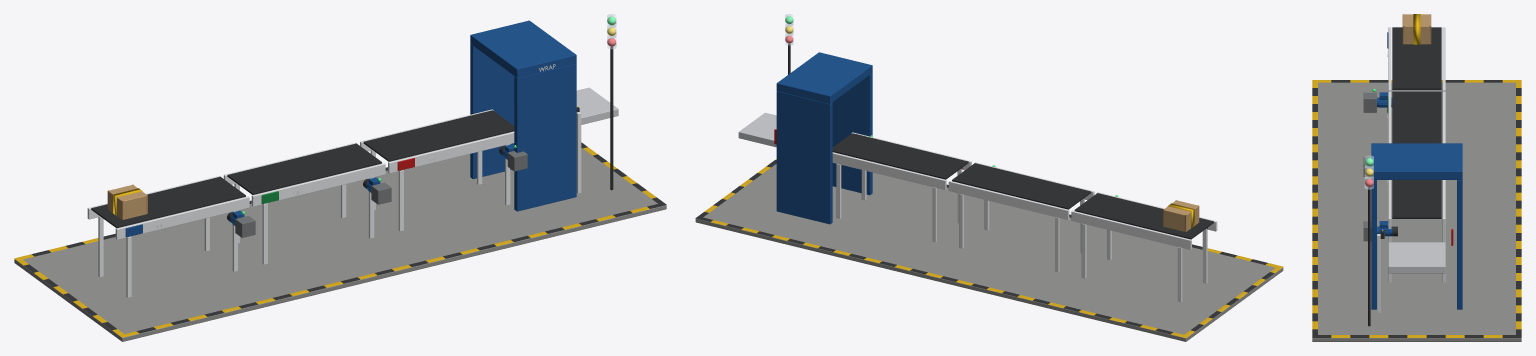
The model's file is machine_line3.glb.
3 views of the same model, side by side, from view 1: azimuth 30°, elevation 25°; view 2: azimuth 150°, elevation 25°; view 3: azimuth 270°, elevation 25° (orthographic). The views are drawn at different scales.
Visible parts, largest first — view 1: frame, proto_box_mesh; view 2: frame, proto_box_mesh; view 3: frame, proto_box_mesh.
Part boxes in pixels (x1,y1,x2,y2): frame: (14, 14, 666, 341); proto_box_mesh: (107, 184, 147, 219); frame: (695, 14, 1283, 341); proto_box_mesh: (1163, 200, 1199, 231); frame: (1312, 27, 1521, 341); proto_box_mesh: (1402, 14, 1431, 44).
Bounding box in the file's own units: 6.4 × 2 × 2.2.
